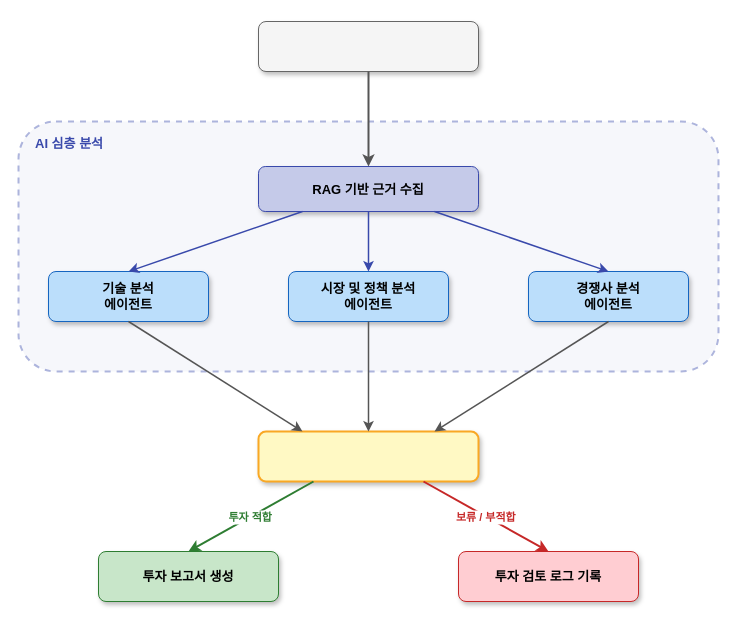
Some shapes in this 736 by 626 pixel diagram are drawn without their labels. The shapes that lost their labels are listed below. From the top down, each one's centre as x and y in pixels, then its label:
At [369,47]: "스타트업 탐색 에이전트".
At [369,457]: "투자 판단 에이전트".
